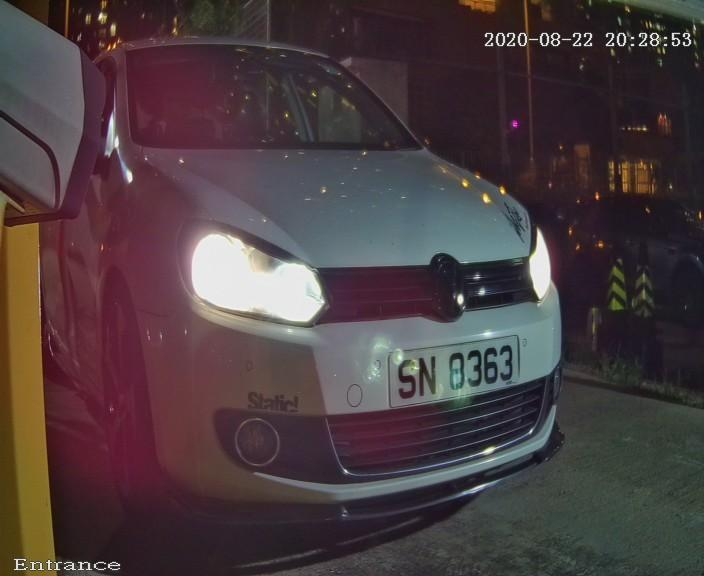Car: (16, 11, 642, 564)
License Plate: (353, 310, 543, 431)
